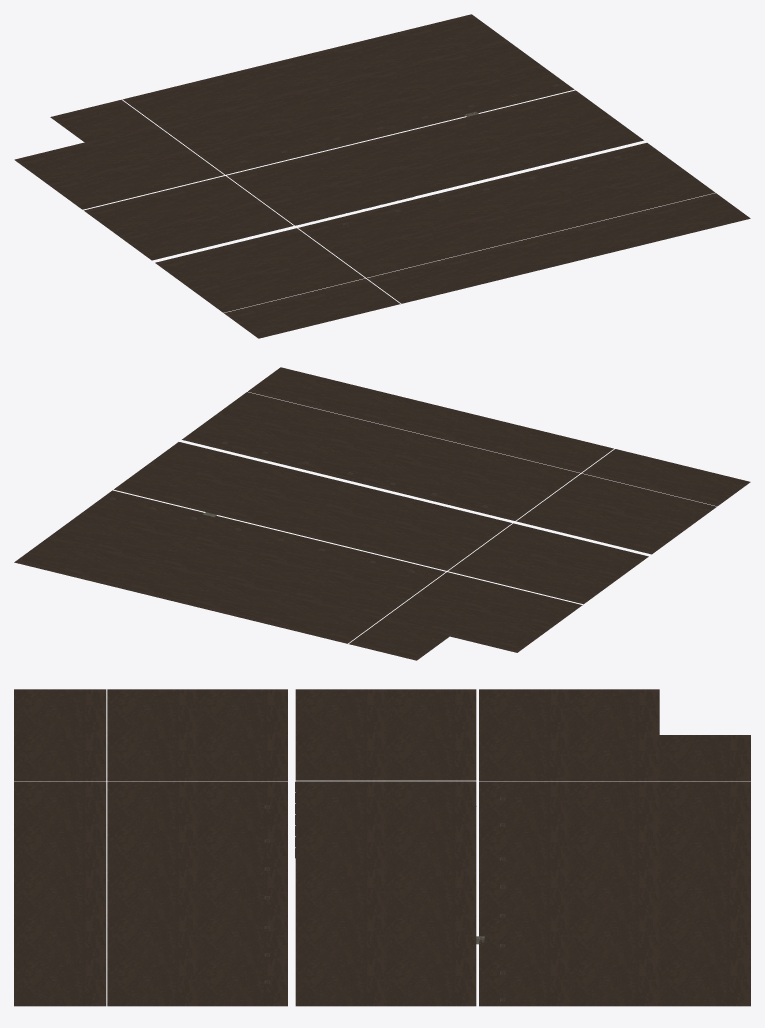
File: Environment_Decals.obj
The picture shows the model from 3 angles, top to bottom: view 1: azimuth 30°, elevation 25°; view 2: azimuth 150°, elevation 25°; view 3: azimuth 270°, elevation 25°; orthographic projection. The views are drawn at different scales.
Parts seen in each view (by area): view 1: Plane.122, Plane.107, Plane.110, Plane.116, Plane.108, Plane.118, Plane.120, Plane.073, Plane.096, Plane.074, Plane.091, Plane.095 (+43 smaller); view 2: Plane.109, Plane.128, Plane.116, Plane.124, Plane.121, Plane.070, Plane.090, Plane.119, Plane.088, Plane.104, Plane.110, Plane.122 (+43 smaller); view 3: Plane.070, Plane.118, Plane.074, Plane.117, Plane.082, Plane.084, Plane.120, Plane.088, Plane.094, Plane.098, Plane.104, Plane.124 (+43 smaller).
Part boxes in pixels (<box>): Plane.122: <box>224,296,329,338</box>; Plane.107: <box>118,149,223,192</box>; Plane.110: <box>84,193,189,235</box>; Plane.116: <box>367,261,472,303</box>; Plane.108: <box>226,228,331,270</box>; Plane.118: <box>508,226,613,269</box>; Plane.120: <box>646,193,750,235</box>; Plane.073: <box>332,166,436,208</box>; Plane.096: <box>507,159,612,202</box>; Plane.074: <box>368,125,473,166</box>; Plane.091: <box>331,235,437,277</box>; Plane.095: <box>473,201,578,243</box>; Plane.109: <box>548,473,649,514</box>; Plane.128: <box>349,619,449,660</box>; Plane.116: <box>513,432,613,472</box>; Plane.124: <box>213,586,313,627</box>; Plane.121: <box>582,449,682,489</box>; Plane.070: <box>379,530,479,570</box>; Plane.090: <box>447,480,546,520</box>; Plane.119: <box>314,383,413,423</box>; Plane.088: <box>47,514,146,554</box>; Plane.104: <box>448,547,549,587</box>; Plane.110: <box>516,563,616,604</box>; Plane.122: <box>650,465,750,506</box>; Plane.070: <box>384,781,476,827</box>; Plane.118: <box>14,872,106,918</box>; Plane.074: <box>384,872,476,918</box>; Plane.117: <box>14,826,106,872</box>; Plane.082: <box>567,826,659,872</box>; Plane.084: <box>567,872,659,918</box>; Plane.120: <box>14,960,106,1006</box>; Plane.088: <box>567,960,659,1006</box>; Plane.094: <box>195,872,287,918</box>; Plane.098: <box>195,960,287,1006</box>; Plane.104: <box>384,734,476,780</box>; Plane.124: <box>658,826,750,872</box>.
Bounding box in the file's own units: 155 × 0.0204 × 149.
